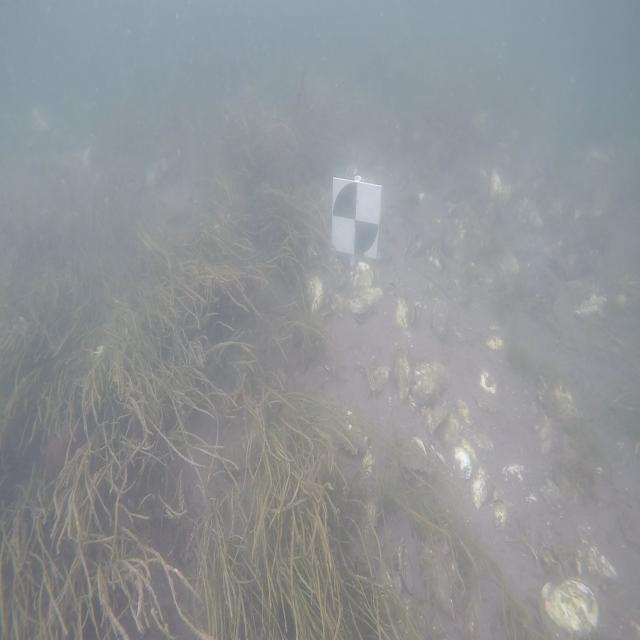Oyster- Indeterminate: (339, 411, 368, 456), (480, 371, 496, 393)
Oyster-Closed: (541, 580, 599, 633), (332, 287, 382, 322), (412, 362, 449, 404), (350, 260, 381, 303), (395, 287, 420, 331), (454, 440, 476, 478), (395, 349, 411, 400), (421, 404, 448, 433), (471, 469, 488, 509), (308, 276, 324, 312), (368, 367, 390, 393), (494, 502, 508, 528)
Oyster-Open: (391, 531, 432, 603)
